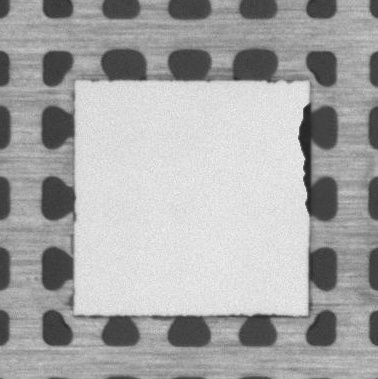DIE_BROKEN: (295, 101, 313, 216)
